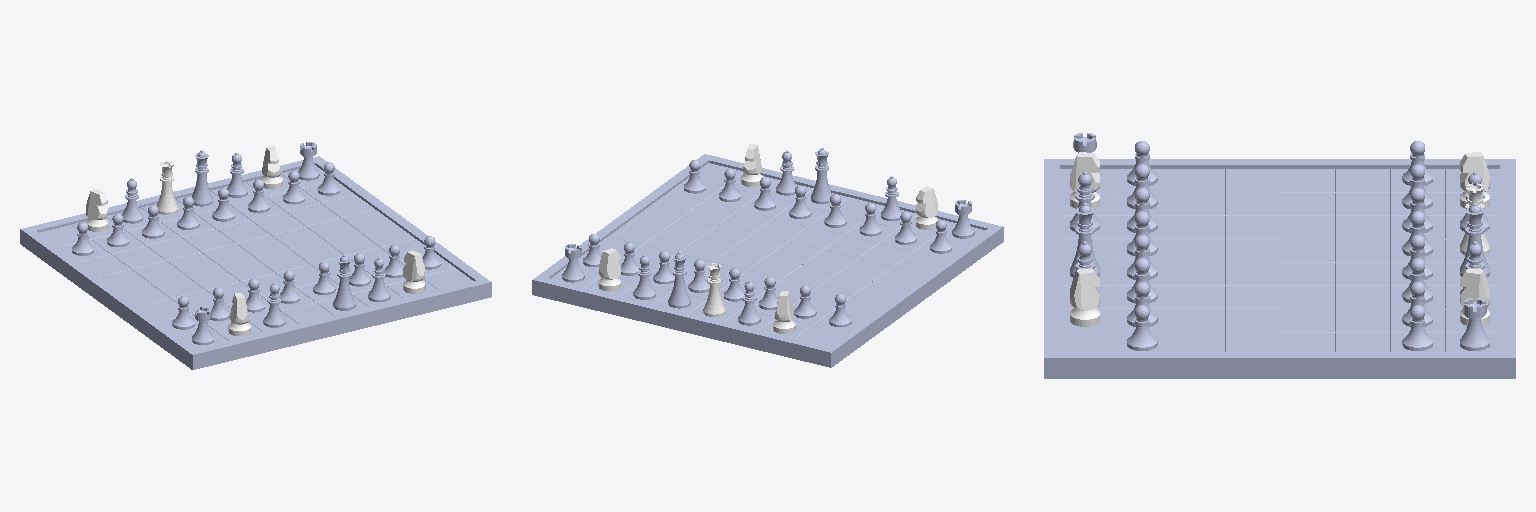
--- What the picture shows (computed from the rendered views, not written in the file) ---
Views: 3 orthographic renders of the robot side by side, from view 1: azimuth 30°, elevation 25°; view 2: azimuth 150°, elevation 25°; view 3: azimuth 270°, elevation 25°.
Robot: board_new — 34 links, 33 joints (33 fixed); root link world; default pose: every joint at zero.
Links seen in each view (by area): view 1: base_link, jaran1, jaran3, raja1, raja2, jaran2, ster2, jaran4, benteng2, benteng4, patih1, patih2 (+2 smaller); view 2: base_link, jaran4, jaran2, raja2, raja1, ster2, jaran3, jaran1, benteng2, benteng4, patih3, patih4 (+2 smaller); view 3: base_link, jaran1, benteng4, jaran2, jaran4, jaran3, pion16, pion1, raja1, raja2, patih2, ster2 (+14 smaller).
Link boxes in pixels (left/top/right/bottom): base_link: left=20, top=156, right=491, bottom=369; jaran1: left=403, top=250, right=425, bottom=293; jaran3: left=86, top=189, right=107, bottom=231; raja1: left=333, top=254, right=355, bottom=310; raja2: left=192, top=150, right=212, bottom=206; jaran2: left=228, top=293, right=250, bottom=335; ster2: left=157, top=161, right=177, bottom=214; jaran4: left=260, top=146, right=282, bottom=189; benteng2: left=192, top=306, right=213, bottom=344; benteng4: left=298, top=142, right=319, bottom=180; patih1: left=368, top=257, right=390, bottom=301; patih2: left=263, top=283, right=285, bottom=327; base_link: left=532, top=154, right=1003, bottom=367; jaran4: left=598, top=248, right=620, bottom=291; jaran2: left=916, top=186, right=937, bottom=229; raja2: left=668, top=252, right=690, bottom=308; raja1: left=811, top=148, right=831, bottom=203; ster2: left=703, top=263, right=725, bottom=316; jaran3: left=773, top=291, right=795, bottom=333; jaran1: left=741, top=144, right=762, bottom=186; benteng2: left=952, top=200, right=974, bottom=238; benteng4: left=562, top=244, right=584, bottom=282; patih3: left=738, top=280, right=760, bottom=325; patih4: left=633, top=255, right=655, bottom=299; base_link: left=1044, top=159, right=1515, bottom=378; jaran1: left=1070, top=268, right=1099, bottom=326; benteng4: left=1460, top=298, right=1489, bottom=350; jaran2: left=1070, top=152, right=1099, bottom=208; jaran4: left=1460, top=268, right=1489, bottom=325; jaran3: left=1460, top=152, right=1489, bottom=207; pion16: left=1402, top=305, right=1432, bottom=350; pion1: left=1127, top=305, right=1157, bottom=350; raja1: left=1070, top=203, right=1099, bottom=277; raja2: left=1460, top=203, right=1489, bottom=277; patih2: left=1070, top=172, right=1099, bottom=231; ster2: left=1460, top=183, right=1489, bottom=254.
Bounding box of the posed robot: 0.367 × 0.366 × 0.0756 m (x, y, z).
Meshes: 33 distinct files referenced, 30 mesh visuals loaded (30 binary STL); not drawn: 3 (reference not matched to a file when rendering).

The robot description file, URDF, robot "board_new":
<!--?xml version="1.0" encoding="utf-8"?-->

<robot
  name="board_new">
 
  <!-- 添加世界坐标系链接 -->
  <link name="world"/>
  
  <!-- 将 base_link 固定到 world -->
  <joint name="fixed_to_world" type="fixed">
    <parent link="world"/>
    <child link="base_link"/>
    <!-- 这里不需要 origin，因为我们在 spawn_model 时会指定位置 -->
    <!-- 如果需要微调高度以避免 Z-fighting (闪烁)，可以将 z 设为稍微高一点点，例如 0.001 -->
    <origin xyz="0 0 0.02" rpy="1.5708 0 0"/> 
  </joint>

  <link
    name="base_link">
    <inertial>
      <origin
        xyz="2.59991680962024E-16 -0.00180057250759344 9.22159485035791E-16"
        rpy="0 0 0" />
      <mass
        value="0.5397745" />
      <inertia
        ixx="0.0010104424615518"
        ixy="-5.68823672919161E-21"
        ixz="-2.83870443202449E-12"
        iyy="0.00503082062773216"
        iyz="-4.85459085409541E-08"
        izz="0.00403664638877451" />
    </inertial>
    <visual>
      <origin
        xyz="0 0 0"
        rpy="0 0 0" />
      <geometry>
        <mesh
          filename="package://board_new/meshes/base_link.STL" />
      </geometry>
      <material
        name="">
        <color
          rgba="0.792156862745098 0.819607843137255 0.933333333333333 1" />
      </material>
    </visual>
    <collision>
      <origin
        xyz="0 0 0"
        rpy="0 0 0" />
      <geometry>
        <mesh
          filename="package://board_new/meshes/base_link.STL" />
      </geometry>
    </collision>
  </link>
  <link
    name="pion1">
    <inertial>
      <origin
        xyz="5.55111512312578E-17 0.0106222958974551 -1.7055801215804E-14"
        rpy="0 0 0" />
      <mass
        value="0.00514941010722538" />
      <inertia
        ixx="5.74831681295525E-07"
        ixy="-3.26879966837887E-23"
        ixz="-2.97708148562947E-23"
        iyy="2.09083285069225E-07"
        iyz="2.66692949158579E-23"
        izz="5.74831681295525E-07" />
    </inertial>
    <visual>
      <origin
        xyz="0 0 0"
        rpy="0 0 0" />
      <geometry>
        <mesh
          filename="package://board_new/meshes/pion1.STL" />
      </geometry>
      <material
        name="">
        <color
          rgba="0.792156862745098 0.819607843137255 0.933333333333333 1" />
      </material>
    </visual>
    <collision>
      <origin
        xyz="0 0 0"
        rpy="0 0 0" />
      <geometry>
        <mesh
          filename="package://board_new/meshes/pion1.STL" />
      </geometry>
    </collision>
  </link>
  <joint
    name="p_1"
    type="fixed">
    <origin
      xyz="0.151639999999999 0.00200000000000001 0.107060000000001"
      rpy="0 0 0" />
    <parent
      link="base_link" />
    <child
      link="pion1" />
  </joint>
  <link
    name="pion2">
    <inertial>
      <origin
        xyz="5.55111512312578E-17 0.0106222958974551 -1.77219350305791E-14"
        rpy="0 0 0" />
      <mass
        value="0.00514941010722538" />
      <inertia
        ixx="5.74831681295525E-07"
        ixy="-1.61603114763974E-23"
        ixz="-1.36349163220758E-23"
        iyy="2.09083285069227E-07"
        iyz="-6.7032927568502E-23"
        izz="5.74831681295525E-07" />
    </inertial>
    <visual>
      <origin
        xyz="0 0 0"
        rpy="0 0 0" />
      <geometry>
        <mesh
          filename="package://board_new/meshes/pion2.STL" />
      </geometry>
      <material
        name="">
        <color
          rgba="0.792156862745098 0.819607843137255 0.933333333333333 1" />
      </material>
    </visual>
    <collision>
      <origin
        xyz="0 0 0"
        rpy="0 0 0" />
      <geometry>
        <mesh
          filename="package://board_new/meshes/pion2.STL" />
      </geometry>
    </collision>
  </link>
  <joint
    name="p_2"
    type="fixed">
    <origin
      xyz="0.108439999999999 0.00200000000000001 0.107060000000001"
      rpy="0 0 0" />
    <parent
      link="base_link" />
    <child
      link="pion2" />
  </joint>
  <link
    name="pion3">
    <inertial>
      <origin
        xyz="5.55111512312578E-17 0.0106222958974551 -1.83741910575463E-14"
        rpy="0 0 0" />
      <mass
        value="0.00514941010722538" />
      <inertia
        ixx="5.74831681295525E-07"
        ixy="-4.05849110163768E-23"
        ixz="-1.0233527172237E-23"
        iyy="2.09083285069227E-07"
        iyz="-3.28893902643641E-23"
        izz="5.74831681295525E-07" />
    </inertial>
    <visual>
      <origin
        xyz="0 0 0"
        rpy="0 0 0" />
      <geometry>
        <mesh
          filename="package://board_new/meshes/pion3.STL" />
      </geometry>
      <material
        name="">
        <color
          rgba="0.792156862745098 0.819607843137255 0.933333333333333 1" />
      </material>
    </visual>
    <collision>
      <origin
        xyz="0 0 0"
        rpy="0 0 0" />
      <geometry>
        <mesh
          filename="package://board_new/meshes/pion3.STL" />
      </geometry>
    </collision>
  </link>
  <joint
    name="p_3"
    type="fixed">
    <origin
      xyz="0.0652399999999993 0.00200000000000001 0.107060000000001"
      rpy="0 0 0" />
    <parent
      link="base_link" />
    <child
      link="pion3" />
  </joint>
  <link
    name="pion4">
    <inertial>
      <origin
        xyz="5.20417042793042E-17 0.0106222958974552 -1.90125692967058E-14"
        rpy="0 0 0" />
      <mass
        value="0.00514941010722538" />
      <inertia
        ixx="5.74831681295525E-07"
        ixy="-1.32092358924137E-23"
        ixz="-1.21541520975641E-23"
        iyy="2.09083285069227E-07"
        iyz="-1.0825089483752E-23"
        izz="5.74831681295525E-07" />
    </inertial>
    <visual>
      <origin
        xyz="0 0 0"
        rpy="0 0 0" />
      <geometry>
        <mesh
          filename="package://board_new/meshes/pion4.STL" />
      </geometry>
      <material
        name="">
        <color
          rgba="0.792156862745098 0.819607843137255 0.933333333333333 1" />
      </material>
    </visual>
    <collision>
      <origin
        xyz="0 0 0"
        rpy="0 0 0" />
      <geometry>
        <mesh
          filename="package://board_new/meshes/pion4.STL" />
      </geometry>
    </collision>
  </link>
  <joint
    name="p_4"
    type="fixed">
    <origin
      xyz="0.0220399999999993 0.00200000000000001 0.107060000000001"
      rpy="0 0 0" />
    <parent
      link="base_link" />
    <child
      link="pion4" />
  </joint>
  <link
    name="pion5">
    <inertial>
      <origin
        xyz="5.20417042793042E-17 0.0106222958974552 -1.96787031114809E-14"
        rpy="0 0 0" />
      <mass
        value="0.00514941010722538" />
      <inertia
        ixx="5.74831681295525E-07"
        ixy="-1.22564059495016E-23"
        ixz="-1.21541520975641E-23"
        iyy="2.09083285069225E-07"
        iyz="-9.83816675147344E-24"
        izz="5.74831681295525E-07" />
    </inertial>
    <visual>
      <origin
        xyz="0 0 0"
        rpy="0 0 0" />
      <geometry>
        <mesh
          filename="package://board_new/meshes/pion5.STL" />
      </geometry>
      <material
        name="">
        <color
          rgba="0.792156862745098 0.819607843137255 0.933333333333333 1" />
      </material>
    </visual>
    <collision>
      <origin
        xyz="0 0 0"
        rpy="0 0 0" />
      <geometry>
        <mesh
          filename="package://board_new/meshes/pion5.STL" />
      </geometry>
    </collision>
  </link>
  <joint
    name="p_5"
    type="fixed">
    <origin
      xyz="-0.0211600000000007 0.00200000000000001 0.107060000000001"
      rpy="0 0 0" />
    <parent
      link="base_link" />
    <child
      link="pion5" />
  </joint>
  <link
    name="pion6">
    <inertial>
      <origin
        xyz="5.55111512312578E-17 0.0106222958974552 -2.03309591384482E-14"
        rpy="0 0 0" />
      <mass
        value="0.00514941010722538" />
      <inertia
        ixx="5.74831681295525E-07"
        ixy="-4.56944440328927E-23"
        ixz="-1.29460299681839E-23"
        iyy="2.09083285069227E-07"
        iyz="-3.76888328806191E-23"
        izz="5.74831681295525E-07" />
    </inertial>
    <visual>
      <origin
        xyz="0 0 0"
        rpy="0 0 0" />
      <geometry>
        <mesh
          filename="package://board_new/meshes/pion6.STL" />
      </geometry>
      <material
        name="">
        <color
          rgba="0.792156862745098 0.819607843137255 0.933333333333333 1" />
      </material>
    </visual>
    <collision>
      <origin
        xyz="0 0 0"
        rpy="0 0 0" />
      <geometry>
        <mesh
          filename="package://board_new/meshes/pion6.STL" />
      </geometry>
    </collision>
  </link>
  <joint
    name="p_6"
    type="fixed">
    <origin
      xyz="-0.0643600000000007 0.00200000000000001 0.107060000000001"
      rpy="0 0 0" />
    <parent
      link="base_link" />
    <child
      link="pion6" />
  </joint>
  <link
    name="pion7">
    <inertial>
      <origin
        xyz="2.77555756156289E-17 0.0106222958974552 -2.09832151654155E-14"
        rpy="0 0 0" />
      <mass
        value="0.00514941010722538" />
      <inertia
        ixx="5.74831681295525E-07"
        ixy="-1.61603114763974E-23"
        ixz="-1.36349163220758E-23"
        iyy="2.09083285069227E-07"
        iyz="-6.7032927568502E-23"
        izz="5.74831681295525E-07" />
    </inertial>
    <visual>
      <origin
        xyz="0 0 0"
        rpy="0 0 0" />
      <geometry>
        <mesh
          filename="package://board_new/meshes/pion7.STL" />
      </geometry>
      <material
        name="">
        <color
          rgba="0.792156862745098 0.819607843137255 0.933333333333333 1" />
      </material>
    </visual>
    <collision>
      <origin
        xyz="0 0 0"
        rpy="0 0 0" />
      <geometry>
        <mesh
          filename="package://board_new/meshes/pion7.STL" />
      </geometry>
    </collision>
  </link>
  <joint
    name="p_7"
    type="fixed">
    <origin
      xyz="-0.107560000000001 0.00200000000000001 0.107060000000001"
      rpy="0 0 0" />
    <parent
      link="base_link" />
    <child
      link="pion7" />
  </joint>
  <link
    name="pion8">
    <inertial>
      <origin
        xyz="5.55111512312578E-17 0.0106222958974552 -2.16354711923827E-14"
        rpy="0 0 0" />
      <mass
        value="0.00514941010722538" />
      <inertia
        ixx="5.74831681295525E-07"
        ixy="-3.26879966837887E-23"
        ixz="-2.71858754420665E-23"
        iyy="2.09083285069225E-07"
        iyz="2.66692949158579E-23"
        izz="5.74831681295525E-07" />
    </inertial>
    <visual>
      <origin
        xyz="0 0 0"
        rpy="0 0 0" />
      <geometry>
        <mesh
          filename="package://board_new/meshes/pion8.STL" />
      </geometry>
      <material
        name="">
        <color
          rgba="0.792156862745098 0.819607843137255 0.933333333333333 1" />
      </material>
    </visual>
    <collision>
      <origin
        xyz="0 0 0"
        rpy="0 0 0" />
      <geometry>
        <mesh
          filename="package://board_new/meshes/pion8.STL" />
      </geometry>
    </collision>
  </link>
  <joint
    name="p_8"
    type="fixed">
    <origin
      xyz="-0.150760000000001 0.00200000000000001 0.107060000000001"
      rpy="0 0 0" />
    <parent
      link="base_link" />
    <child
      link="pion8" />
  </joint>
  <link
    name="pion9">
    <inertial>
      <origin
        xyz="5.55111512312578E-17 0.0106222958974552 -1.25038868148408E-14"
        rpy="0 0 0" />
      <mass
        value="0.00514941010722538" />
      <inertia
        ixx="5.74831681295525E-07"
        ixy="4.64679841727202E-23"
        ixz="9.45488365844947E-24"
        iyy="2.09083285069225E-07"
        iyz="-3.89829630753822E-23"
        izz="5.74831681295525E-07" />
    </inertial>
    <visual>
      <origin
        xyz="0 0 0"
        rpy="0 0 0" />
      <geometry>
        <mesh
          filename="package://board_new/meshes/pion9.STL" />
      </geometry>
      <material
        name="">
        <color
          rgba="0.792156862745098 0.819607843137255 0.933333333333333 1" />
      </material>
    </visual>
    <collision>
      <origin
        xyz="0 0 0"
        rpy="0 0 0" />
      <geometry>
        <mesh
          filename="package://board_new/meshes/pion9.STL" />
      </geometry>
    </collision>
  </link>
  <joint
    name="p_9"
    type="fixed">
    <origin
      xyz="-0.150760000000001 0.00200000000000001 -0.107059999999999"
      rpy="0 0 0" />
    <parent
      link="base_link" />
    <child
      link="pion9" />
  </joint>
  <link
    name="pion10">
    <inertial>
      <origin
        xyz="5.55111512312578E-17 0.0106222958974552 -1.31422650540003E-14"
        rpy="0 0 0" />
      <mass
        value="0.00514941010722538" />
      <inertia
        ixx="5.74831681295525E-07"
        ixy="3.80897632295363E-24"
        ixz="-1.64352731389091E-25"
        iyy="2.09083285069227E-07"
        iyz="-1.97692226174703E-23"
        izz="5.74831681295525E-07" />
    </inertial>
    <visual>
      <origin
        xyz="0 0 0"
        rpy="0 0 0" />
      <geometry>
        <mesh
          filename="package://board_new/meshes/pion10.STL" />
      </geometry>
      <material
        name="">
        <color
          rgba="0.792156862745098 0.819607843137255 0.933333333333333 1" />
      </material>
    </visual>
    <collision>
      <origin
        xyz="0 0 0"
        rpy="0 0 0" />
      <geometry>
        <mesh
          filename="package://board_new/meshes/pion10.STL" />
      </geometry>
    </collision>
  </link>
  <joint
    name="p_10"
    type="fixed">
    <origin
      xyz="-0.107560000000001 0.00200000000000001 -0.107059999999999"
      rpy="0 0 0" />
    <parent
      link="base_link" />
    <child
      link="pion10" />
  </joint>
  <link
    name="pion11">
    <inertial>
      <origin
        xyz="5.55111512312578E-17 0.0106222958974552 -1.38083988687754E-14"
        rpy="0 0 0" />
      <mass
        value="0.00514941010722538" />
      <inertia
        ixx="5.74831681295525E-07"
        ixy="3.81524818338502E-23"
        ixz="2.87367322544659E-23"
        iyy="2.09083285069227E-07"
        iyz="2.10092874245822E-23"
        izz="5.74831681295525E-07" />
    </inertial>
    <visual>
      <origin
        xyz="0 0 0"
        rpy="0 0 0" />
      <geometry>
        <mesh
          filename="package://board_new/meshes/pion11.STL" />
      </geometry>
      <material
        name="">
        <color
          rgba="0.792156862745098 0.819607843137255 0.933333333333333 1" />
      </material>
    </visual>
    <collision>
      <origin
        xyz="0 0 0"
        rpy="0 0 0" />
      <geometry>
        <mesh
          filename="package://board_new/meshes/pion11.STL" />
      </geometry>
    </collision>
  </link>
  <joint
    name="p_11"
    type="fixed">
    <origin
      xyz="-0.0643600000000007 0.00200000000000001 -0.107059999999999"
      rpy="0 0 0" />
    <parent
      link="base_link" />
    <child
      link="pion11" />
  </joint>
  <link
    name="pion12">
    <inertial>
      <origin
        xyz="5.20417042793042E-17 0.0106222958974552 -1.44606548957427E-14"
        rpy="0 0 0" />
      <mass
        value="0.00514941010722538" />
      <inertia
        ixx="5.74831681295525E-07"
        ixy="-1.28873928351933E-24"
        ixz="1.2347236223156E-23"
        iyy="2.09083285069227E-07"
        iyz="-2.4990973322584E-23"
        izz="5.74831681295525E-07" />
    </inertial>
    <visual>
      <origin
        xyz="0 0 0"
        rpy="0 0 0" />
      <geometry>
        <mesh
          filename="package://board_new/meshes/pion12.STL" />
      </geometry>
      <material
        name="">
        <color
          rgba="0.792156862745098 0.819607843137255 0.933333333333333 1" />
      </material>
    </visual>
    <collision>
      <origin
        xyz="0 0 0"
        rpy="0 0 0" />
      <geometry>
        <mesh
          filename="package://board_new/meshes/pion12.STL" />
      </geometry>
    </collision>
  </link>
  <joint
    name="p_12"
    type="fixed">
    <origin
      xyz="-0.0211600000000007 0.00200000000000001 -0.107059999999999"
      rpy="0 0 0" />
    <parent
      link="base_link" />
    <child
      link="pion12" />
  </joint>
  <link
    name="pion13">
    <inertial>
      <origin
        xyz="5.20417042793042E-17 0.0106222958974552 -1.51267887105178E-14"
        rpy="0 0 0" />
      <mass
        value="0.00514941010722538" />
      <inertia
        ixx="5.74831681295525E-07"
        ixy="-1.28873928351936E-24"
        ixz="4.29260174997181E-23"
        iyy="2.09083285069225E-07"
        iyz="-7.83485004068994E-24"
        izz="5.74831681295525E-07" />
    </inertial>
    <visual>
      <origin
        xyz="0 0 0"
        rpy="0 0 0" />
      <geometry>
        <mesh
          filename="package://board_new/meshes/pion13.STL" />
      </geometry>
      <material
        name="">
        <color
          rgba="0.792156862745098 0.819607843137255 0.933333333333333 1" />
      </material>
    </visual>
    <collision>
      <origin
        xyz="0 0 0"
        rpy="0 0 0" />
      <geometry>
        <mesh
          filename="package://board_new/meshes/pion13.STL" />
      </geometry>
    </collision>
  </link>
  <joint
    name="p_13"
    type="fixed">
    <origin
      xyz="0.0220399999999993 0.00200000000000001 -0.107059999999999"
      rpy="0 0 0" />
    <parent
      link="base_link" />
    <child
      link="pion13" />
  </joint>
  <link
    name="pion14">
    <inertial>
      <origin
        xyz="5.55111512312578E-17 0.0106222958974551 -1.57512891618694E-14"
        rpy="0 0 0" />
      <mass
        value="0.00514941010722538" />
      <inertia
        ixx="5.74831681295525E-07"
        ixy="3.35938143553673E-23"
        ixz="-4.64628953838639E-24"
        iyy="2.09083285069227E-07"
        iyz="3.78844729355158E-23"
        izz="5.74831681295525E-07" />
    </inertial>
    <visual>
      <origin
        xyz="0 0 0"
        rpy="0 0 0" />
      <geometry>
        <mesh
          filename="package://board_new/meshes/pion14.STL" />
      </geometry>
      <material
        name="">
        <color
          rgba="0.792156862745098 0.819607843137255 0.933333333333333 1" />
      </material>
    </visual>
    <collision>
      <origin
        xyz="0 0 0"
        rpy="0 0 0" />
      <geometry>
        <mesh
          filename="package://board_new/meshes/pion14.STL" />
      </geometry>
    </collision>
  </link>
  <joint
    name="p_14"
    type="fixed">
    <origin
      xyz="0.0652399999999993 0.00200000000000001 -0.107059999999999"
      rpy="0 0 0" />
    <parent
      link="base_link" />
    <child
      link="pion14" />
  </joint>
  <link
    name="pion15">
    <inertial>
      <origin
        xyz="5.55111512312578E-17 0.0106222958974551 -1.64035451888367E-14"
        rpy="0 0 0" />
      <mass
        value="0.00514941010722538" />
      <inertia
        ixx="5.74831681295525E-07"
        ixy="3.80897632295362E-24"
        ixz="2.88432127258723E-23"
        iyy="2.09083285069227E-07"
        iyz="-3.36847737927125E-24"
        izz="5.74831681295525E-07" />
    </inertial>
    <visual>
      <origin
        xyz="0 0 0"
        rpy="0 0 0" />
      <geometry>
        <mesh
          filename="package://board_new/meshes/pion15.STL" />
      </geometry>
      <material
        name="">
        <color
          rgba="0.792156862745098 0.819607843137255 0.933333333333333 1" />
      </material>
    </visual>
    <collision>
      <origin
        xyz="0 0 0"
        rpy="0 0 0" />
      <geometry>
        <mesh
          filename="package://board_new/meshes/pion15.STL" />
      </geometry>
    </collision>
  </link>
  <joint
    name="p_15"
    type="fixed">
    <origin
      xyz="0.108439999999999 0.00200000000000001 -0.107059999999999"
      rpy="0 0 0" />
    <parent
      link="base_link" />
    <child
      link="pion15" />
  </joint>
  <link
    name="pion16">
    <inertial>
      <origin
        xyz="5.55111512312578E-17 0.0106222958974551 -1.70696790036118E-14"
        rpy="0 0 0" />
      <mass
        value="0.00514941010722538" />
      <inertia
        ixx="5.74831681295525E-07"
        ixy="4.64679841727202E-23"
        ixz="1.23593813464983E-23"
        iyy="2.09083285069225E-07"
        iyz="-2.57285408302781E-23"
        izz="5.74831681295525E-07" />
    </inertial>
    <visual>
      <origin
        xyz="0 0 0"
        rpy="0 0 0" />
      <geometry>
        <mesh
          filename="package://board_new/meshes/pion16.STL" />
      </geometry>
      <material
        name="">
        <color
          rgba="0.792156862745098 0.819607843137255 0.933333333333333 1" />
      </material>
    </visual>
    <collision>
      <origin
        xyz="0 0 0"
        rpy="0 0 0" />
      <geometry>
        <mesh
          filename="package://board_new/meshes/pion16.STL" />
      </geometry>
    </collision>
  </link>
  <joint
    name="p_16"
    type="fixed">
    <origin
      xyz="0.151639999999999 0.00200000000000001 -0.107059999999999"
      rpy="0 0 0" />
    <parent
      link="base_link" />
    <child
      link="pion16" />
  </joint>
  <link
    name="benteng1">
    <inertial>
      <origin
        xyz="0 0.0139442329834186 -1.70696790036118E-14"
        rpy="0 0 0" />
      <mass
        value="0.00689524826732993" />
      <inertia
        ixx="1.04076437670444E-06"
        ixy="1.37528750650064E-22"
        ixz="-9.38591097409481E-24"
        iyy="3.15865825931253E-07"
        iyz="1.97940591704879E-23"
        izz="1.04076437670444E-06" />
    </inertial>
    <visual>
      <origin
        xyz="0 0 0"
        rpy="0 0 0" />
      <geometry>
        <mesh
          filename="package://board_new/meshes/benteng1.STL" />
      </geometry>
      <material
        name="">
        <color
          rgba="0.792156862745098 0.819607843137255 0.933333333333333 1" />
      </material>
    </visual>
    <collision>
      <origin
        xyz="0 0 0"
        rpy="0 0 0" />
      <geometry>
        <mesh
          filename="package://board_new/meshes/benteng1.STL" />
      </geometry>
    </collision>
  </link>
  <joint
    name="ben_1"
    type="fixed">
    <origin
      xyz="0.151639999999999 0.002 0.151500000000001"
      rpy="0 0 0" />
    <parent
      link="base_link" />
    <child
      link="benteng1" />
  </joint>
  <link
    name="benteng2">
    <inertial>
      <origin
        xyz="-2.77555756156289E-17 0.0139442329834186 -1.70696790036118E-14"
        rpy="0 0 0" />
      <mass
        value="0.00689524826732993" />
      <inertia
        ixx="1.04076437670444E-06"
        ixy="-1.38542779878044E-22"
        ixz="-9.37166755402563E-24"
        iyy="3.15865825931253E-07"
        iyz="-1.64119530605539E-23"
        izz="1.04076437670444E-06" />
    </inertial>
    <visual>
      <origin
        xyz="0 0 0"
        rpy="0 0 0" />
      <geometry>
        <mesh
          filename="package://board_new/meshes/benteng2.STL" />
      </geometry>
      <material
        name="">
        <color
          rgba="0.792156862745098 0.819607843137255 0.933333333333333 1" />
      </material>
    </visual>
    <collision>
      <origin
        xyz="0 0 0"
        rpy="0 0 0" />
      <geometry>
        <mesh
          filename="package://board_new/meshes/benteng2.STL" />
      </geometry>
    </collision>
  </link>
  <joint
    name="ben_2"
    type="fixed">
    <origin
      xyz="-0.152390000000001 0.002 0.151500000000001"
      rpy="0 0 0" />
    <parent
      link="base_link" />
    <child
      link="benteng2" />
  </joint>
  <link
    name="benteng3">
    <inertial>
      <origin
        xyz="-2.77555756156289E-17 0.0139442329834186 -1.70696790036118E-14"
        rpy="0 0 0" />
      <mass
        value="0.00689524826732993" />
      <inertia
        ixx="1.04076437670444E-06"
        ixy="-1.37211213055297E-22"
        ixz="-9.72507723956464E-24"
        iyy="3.15865825931253E-07"
        iyz="-2.00484126878895E-23"
        izz="1.04076437670444E-06" />
    </inertial>
    <visual>
      <origin
        xyz="0 0 0"
        rpy="0 0 0" />
      <geometry>
        <mesh
          filename="package://board_new/meshes/benteng3.STL" />
      </geometry>
      <material
        name="">
        <color
          rgba="0.792156862745098 0.819607843137255 0.933333333333333 1" />
      </material>
    </visual>
    <collision>
      <origin
        xyz="0 0 0"
        rpy="0 0 0" />
      <geometry>
        <mesh
          filename="package://board_new/meshes/benteng3.STL" />
      </geometry>
    </collision>
  </link>
  <joint
    name="ben_3"
    type="fixed">
    <origin
      xyz="-0.152390000000001 0.002 -0.151499999999999"
      rpy="0 0 0" />
    <parent
      link="base_link" />
    <child
      link="benteng3" />
  </joint>
  <link
    name="benteng4">
    <inertial>
      <origin
        xyz="0 0.0139442329834186 -1.70696790036118E-14"
        rpy="0 0 0" />
      <mass
        value="0.00689524826732993" />
      <inertia
        ixx="1.04076437670444E-06"
        ixy="1.3758890005873E-22"
        ixz="-9.61779215645458E-24"
        iyy="3.15865825931253E-07"
        iyz="2.08618821002094E-23"
        izz="1.04076437670444E-06" />
    </inertial>
    <visual>
      <origin
        xyz="0 0 0"
        rpy="0 0 0" />
      <geometry>
        <mesh
          filename="package://board_new/meshes/benteng4.STL" />
      </geometry>
      <material
        name="">
        <color
          rgba="0.792156862745098 0.819607843137255 0.933333333333333 1" />
      </material>
    </visual>
    <collision>
      <origin
        xyz="0 0 0"
        rpy="0 0 0" />
      <geometry>
        <mesh
          filename="package://board_new/meshes/benteng4.STL" />
      </geometry>
    </collision>
  </link>
  <joint
    name="ben_4"
    type="fixed">
    <origin
      xyz="0.151639999999999 0.002 -0.151499999999999"
      rpy="0 0 0" />
    <parent
      link="base_link" />
    <child
      link="benteng4" />
  </joint>
  <link
    name="jaran1">
    <inertial>
      <origin
        xyz="4.79904925043684E-06 0.0174746975557619 1.79671111603941E-05"
        rpy="0 0 0" />
      <mass
        value="0.0120164146277105" />
      <inertia
        ixx="1.96991136313716E-06"
        ixy="4.61982066145161E-09"
        ixz="-3.04490688432334E-08"
        iyy="6.48940622104474E-07"
        iyz="1.72089600129848E-08"
        izz="1.86463419010765E-06" />
    </inertial>
    <visual>
      <origin
        xyz="0 0 0"
        rpy="0 0 0" />
      <geometry>
        <mesh
          filename="package://board_new/meshes/jaran1.STL" />
      </geometry>
      <material
        name="">
        <color
          rgba="1 1 1 1" />
      </material>
    </visual>
    <collision>
      <origin
        xyz="0 0 0"
        rpy="0 0 0" />
      <geometry>
        <mesh
          filename="package://board_new/meshes/jaran1.STL" />
      </geometry>
    </collision>
  </link>
  <joint
    name="ja_1"
    type="fixed">
    <origin
      xyz="0.106809999999999 0.00200000000000006 0.151500000000001"
      rpy="0 0 0" />
    <parent
      link="base_link" />
    <child
      link="jaran1" />
  </joint>
  <link
    name="jaran2">
    <inertial>
      <origin
        xyz="-4.84268065516213E-06 0.0174746975525759 1.79553749963257E-05"
        rpy="0 0 0" />
      <mass
        value="0.01201641463504" />
      <inertia
        ixx="1.96990922984996E-06"
        ixy="-4.61849377319051E-09"
        ixz="3.04527605172468E-08"
        iyy="6.48940626338857E-07"
        iyz="1.72093193241882E-08"
        izz="1.86463632012942E-06" />
    </inertial>
    <visual>
      <origin
        xyz="0 0 0"
        rpy="0 0 0" />
      <geometry>
        <mesh
          filename="package://board_new/meshes/jaran2.STL" />
      </geometry>
      <material
        name="">
        <color
          rgba="1 1 1 1" />
      </material>
    </visual>
    <collision>
      <origin
        xyz="0 0 0"
        rpy="0 0 0" />
      <geometry>
        <mesh
          filename="package://board_new/meshes/jaran2.STL" />
      </geometry>
    </collision>
  </link>
  <joint
    name="ja_2"
    type="fixed">
    <origin
      xyz="-0.107560000000001 0.00200000000000006 0.151500000000001"
      rpy="0 0 0" />
    <parent
      link="base_link" />
    <child
      link="jaran2" />
  </joint>
  <link
    name="jaran3">
    <inertial>
      <origin
        xyz="-4.79904925045072E-06 0.0174746975557618 -1.79671111945334E-05"
        rpy="0 0 0" />
      <mass
        value="0.0120164146277105" />
      <inertia
        ixx="1.96991136313716E-06"
        ixy="-4.6198206614517E-09"
        ixz="-3.04490688432333E-08"
        iyy="6.48940622104473E-07"
        iyz="-1.72089600129852E-08"
        izz="1.86463419010765E-06" />
    </inertial>
    <visual>
      <origin
        xyz="0 0 0"
        rpy="0 0 0" />
      <geometry>
        <mesh
          filename="package://board_new/meshes/jaran3.STL" />
      </geometry>
      <material
        name="">
        <color
          rgba="1 1 1 1" />
      </material>
    </visual>
    <collision>
      <origin
        xyz="0 0 0"
        rpy="0 0 0" />
      <geometry>
        <mesh
          filename="package://board_new/meshes/jaran3.STL" />
      </geometry>
    </collision>
  </link>
  <joint
    name="ja_3"
    type="fixed">
    <origin
      xyz="-0.107560000000001 0.00200000000000006 -0.151499999999999"
      rpy="0 0 0" />
    <parent
      link="base_link" />
    <child
      link="jaran3" />
  </joint>
  <link
    name="jaran4">
    <inertial>
      <origin
        xyz="4.84268065516213E-06 0.0174746975525759 -1.79553750304651E-05"
        rpy="0 0 0" />
      <mass
        value="0.01201641463504" />
      <inertia
        ixx="1.96990922984996E-06"
        ixy="4.61849377319023E-09"
        ixz="3.0452760517247E-08"
        iyy="6.48940626338857E-07"
        iyz="-1.72093193241881E-08"
        izz="1.86463632012942E-06" />
    </inertial>
    <visual>
      <origin
        xyz="0 0 0"
        rpy="0 0 0" />
      <geometry>
        <mesh
          filename="package://board_new/meshes/jaran4.STL" />
      </geometry>
      <material
        name="">
        <color
          rgba="1 1 1 1" />
      </material>
    </visual>
    <collision>
      <origin
        xyz="0 0 0"
        rpy="0 0 0" />
      <geometry>
        <mesh
          filename="package://board_new/meshes/jaran4.STL" />
      </geometry>
    </collision>
  </link>
  <joint
    name="ja_4"
    type="fixed">
    <origin
      xyz="0.106809999999999 0.00200000000000005 -0.151499999999999"
      rpy="0 0 0" />
    <parent
      link="base_link" />
    <child
      link="jaran4" />
  </joint>
  <link
    name="patih1">
    <inertial>
      <origin
        xyz="2.77555756156289E-17 0.0143255951678129 -1.70696790036118E-14"
        rpy="0 0 0" />
      <mass
        value="0.00661332052175699" />
      <inertia
        ixx="1.23616318894567E-06"
        ixy="-5.94826960602266E-23"
        ixz="-8.66123826116076E-23"
        iyy="2.56903760063994E-07"
        iyz="9.11300481436128E-23"
        izz="1.23616318894567E-06" />
    </inertial>
    <visual>
      <origin
        xyz="0 0 0"
        rpy="0 0 0" />
      <geometry>
        <mesh
          filename="package://board_new/meshes/patih1.STL" />
      </geometry>
      <material
        name="">
        <color
          rgba="0.792156862745098 0.819607843137255 0.933333333333333 1" />
      </material>
    </visual>
    <collision>
      <origin
        xyz="0 0 0"
        rpy="0 0 0" />
      <geometry>
        <mesh
          filename="package://board_new/meshes/patih1.STL" />
      </geometry>
    </collision>
  </link>
  <joint
    name="pa_1"
    type="fixed">
    <origin
      xyz="0.0639599999999994 0.00200000000000001 0.151500000000001"
      rpy="0 0 0" />
    <parent
      link="base_link" />
    <child
      link="patih1" />
  </joint>
  <link
    name="patih2">
    <inertial>
      <origin
        xyz="-2.77555756156289E-17 0.0143255951678129 -1.70974345792274E-14"
        rpy="0 0 0" />
      <mass
        value="0.00661332052175699" />
      <inertia
        ixx="1.23616318894567E-06"
        ixy="-1.21773839375848E-22"
        ixz="1.93303892931101E-24"
        iyy="2.56903760063994E-07"
        iyz="6.11874885667466E-23"
        izz="1.23616318894567E-06" />
    </inertial>
    <visual>
      <origin
        xyz="0 0 0"
        rpy="0 0 0" />
      <geometry>
        <mesh
          filename="package://board_new/meshes/patih2.STL" />
      </geometry>
      <material
        name="">
        <color
          rgba="0.792156862745098 0.819607843137255 0.933333333333333 1" />
      </material>
    </visual>
    <collision>
      <origin
        xyz="0 0 0"
        rpy="0 0 0" />
      <geometry>
        <mesh
          filename="package://board_new/meshes/patih2.STL" />
      </geometry>
    </collision>
  </link>
  <joint
    name="pa_2"
    type="fixed">
    <origin
      xyz="-0.0647100000000014 0.00200000000000001 0.151500000000001"
      rpy="0 0 0" />
    <parent
      link="base_link" />
    <child
      link="patih2" />
  </joint>
  <link
    name="patih3">
    <inertial>
      <origin
        xyz="-2.77555756156289E-17 0.0143255951678129 -1.70696790036118E-14"
        rpy="0 0 0" />
      <mass
        value="0.00661332052175699" />
      <inertia
        ixx="1.23616318894567E-06"
        ixy="-4.01215739535397E-23"
        ixz="-1.2285403273913E-22"
        iyy="2.56903760063994E-07"
        iyz="-8.36827525922368E-23"
        izz="1.23616318894567E-06" />
    </inertial>
    <visual>
      <origin
        xyz="0 0 0"
        rpy="0 0 0" />
      <geometry>
        <mesh
          filename="package://board_new/meshes/patih3.STL" />
      </geometry>
      <material
        name="">
        <color
          rgba="0.792156862745098 0.819607843137255 0.933333333333333 1" />
      </material>
    </visual>
    <collision>
      <origin
        xyz="0 0 0"
        rpy="0 0 0" />
      <geometry>
        <mesh
          filename="package://board_new/meshes/patih3.STL" />
      </geometry>
    </collision>
  </link>
  <joint
    name="pa_3"
    type="fixed">
    <origin
      xyz="-0.0647100000000014 0.00200000000000001 -0.151499999999999"
      rpy="0 0 0" />
    <parent
      link="base_link" />
    <child
      link="patih3" />
  </joint>
  <link
    name="patih4">
    <inertial>
      <origin
        xyz="2.77555756156289E-17 0.0143255951678129 -1.70419234279962E-14"
        rpy="0 0 0" />
      <mass
        value="0.00661332052175699" />
      <inertia
        ixx="1.23616318894567E-06"
        ixy="6.18031108580885E-23"
        ixz="4.46517488179933E-23"
        iyy="2.56903760063994E-07"
        iyz="-6.14180999308485E-23"
        izz="1.23616318894567E-06" />
    </inertial>
    <visual>
      <origin
        xyz="0 0 0"
        rpy="0 0 0" />
      <geometry>
        <mesh
          filename="package://board_new/meshes/patih4.STL" />
      </geometry>
      <material
        name="">
        <color
          rgba="0.792156862745098 0.819607843137255 0.933333333333333 1" />
      </material>
    </visual>
    <collision>
      <origin
        xyz="0 0 0"
        rpy="0 0 0" />
      <geometry>
        <mesh
          filename="package://board_new/meshes/patih4.STL" />
      </geometry>
    </collision>
  </link>
  <joint
    name="pa_4"
    type="fixed">
    <origin
      xyz="0.0639599999999994 0.00200000000000001 -0.151499999999999"
      rpy="0 0 0" />
    <parent
      link="base_link" />
    <child
      link="patih4" />
  </joint>
  <link
    name="ster1">
    <inertial>
      <origin
        xyz="0 0.0174505472884713 -1.70696790036118E-14"
        rpy="0 0 0" />
      <mass
        value="0.00865270280186261" />
      <inertia
        ixx="2.16656562383586E-06"
        ixy="-1.64389636943967E-23"
        ixz="-1.13211186497121E-22"
        iyy="3.45899940845713E-07"
        iyz="-2.3782736932399E-23"
        izz="2.16656562383586E-06" />
    </inertial>
    <visual>
      <origin
        xyz="0 0 0"
        rpy="0 0 0" />
      <geometry>
        <mesh
          filename="package://board_new/meshes/ster1.STL" />
      </geometry>
      <material
        name="">
        <color
          rgba="1 1 1 1" />
      </material>
    </visual>
    <collision>
      <origin
        xyz="0 0 0"
        rpy="0 0 0" />
      <geometry>
        <mesh
          filename="package://board_new/meshes/ster1.STL" />
      </geometry>
    </collision>
  </link>
  <joint
    name="st_1"
    type="fixed">
    <origin
      xyz="-0.0218000000000006 0.00200000000000001 0.151500000000001"
      rpy="0 0 0" />
    <parent
      link="base_link" />
    <child
      link="ster1" />
  </joint>
  <link
    name="ster2">
    <inertial>
      <origin
        xyz="0 0.0174505472884713 -1.70696790036118E-14"
        rpy="0 0 0" />
      <mass
        value="0.00865270280186261" />
      <inertia
        ixx="2.16656562383586E-06"
        ixy="7.99563102808249E-23"
        ixz="-1.21800451944587E-22"
        iyy="3.45899940845714E-07"
        iyz="5.56169227343041E-23"
        izz="2.16656562383586E-06" />
    </inertial>
    <visual>
      <origin
        xyz="0 0 0"
        rpy="0 0 0" />
      <geometry>
        <mesh
          filename="package://board_new/meshes/ster2.STL" />
      </geometry>
      <material
        name="">
        <color
          rgba="1 1 1 1" />
      </material>
    </visual>
    <collision>
      <origin
        xyz="0 0 0"
        rpy="0 0 0" />
      <geometry>
        <mesh
          filename="package://board_new/meshes/ster2.STL" />
      </geometry>
    </collision>
  </link>
  <joint
    name="st_2"
    type="fixed">
    <origin
      xyz="-0.0218000000000006 0.00200000000000001 -0.151499999999999"
      rpy="0 0 0" />
    <parent
      link="base_link" />
    <child
      link="ster2" />
  </joint>
  <link
    name="raja1">
    <inertial>
      <origin
        xyz="-1.04083408558608E-17 0.0195412354536036 -1.70696790036118E-14"
        rpy="0 0 0" />
      <mass
        value="0.00920738167044829" />
      <inertia
        ixx="2.83929693808966E-06"
        ixy="5.25973980598679E-22"
        ixz="9.23062477775287E-24"
        iyy="3.53561932265908E-07"
        iyz="2.84140942564377E-23"
        izz="2.83929693808966E-06" />
    </inertial>
    <visual>
      <origin
        xyz="0 0 0"
        rpy="0 0 0" />
      <geometry>
        <mesh
          filename="package://board_new/meshes/raja1.STL" />
      </geometry>
      <material
        name="">
        <color
          rgba="0.792156862745098 0.819607843137255 0.933333333333333 1" />
      </material>
    </visual>
    <collision>
      <origin
        xyz="0 0 0"
        rpy="0 0 0" />
      <geometry>
        <mesh
          filename="package://board_new/meshes/raja1.STL" />
      </geometry>
    </collision>
  </link>
  <joint
    name="ra_1"
    type="fixed">
    <origin
      xyz="0.0210799999999994 0.00200000000000001 0.151500000000001"
      rpy="0 0 0" />
    <parent
      link="base_link" />
    <child
      link="raja1" />
  </joint>
  <link
    name="raja2">
    <inertial>
      <origin
        xyz="-3.46944695195361E-18 0.0195412354536036 -1.70696790036118E-14"
        rpy="0 0 0" />
      <mass
        value="0.00920738167044829" />
      <inertia
        ixx="2.83929693808965E-06"
        ixy="6.1012401659607E-22"
        ixz="-4.94983586082026E-24"
        iyy="3.53561932265886E-07"
        iyz="-3.09549549244307E-23"
        izz="2.83929693808965E-06" />
    </inertial>
    <visual>
      <origin
        xyz="0 0 0"
        rpy="0 0 0" />
      <geometry>
        <mesh
          filename="package://board_new/meshes/raja2.STL" />
      </geometry>
      <material
        name="">
        <color
          rgba="0.792156862745098 0.819607843137255 0.933333333333333 1" />
      </material>
    </visual>
    <collision>
      <origin
        xyz="0 0 0"
        rpy="0 0 0" />
      <geometry>
        <mesh
          filename="package://board_new/meshes/raja2.STL" />
      </geometry>
    </collision>
  </link>
  <joint
    name="ra_2"
    type="fixed">
    <origin
      xyz="0.0210799999999994 0.00200000000000001 -0.151499999999999"
      rpy="0 0 0" />
    <parent
      link="base_link" />
    <child
      link="raja2" />
  </joint>
</robot>
